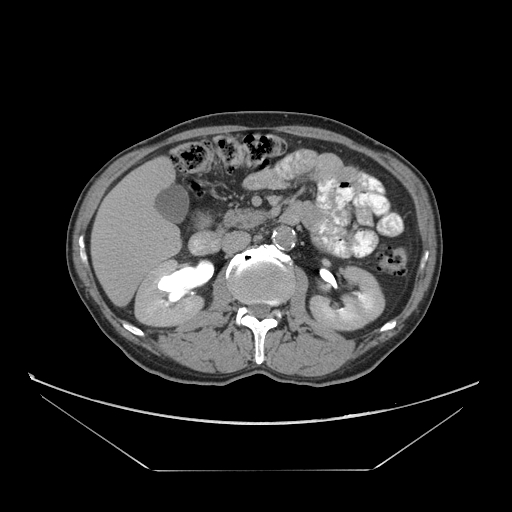left_kidney: (133, 257, 212, 331)
right_kidney: (301, 262, 387, 329)
